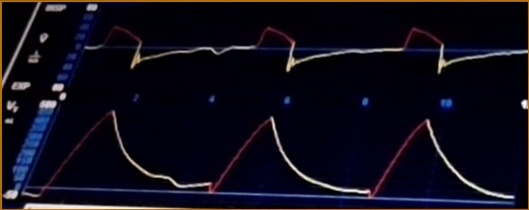Ineffective_effort Flow: (84, 16, 527, 80)
Ineffective_effort Volume: (27, 108, 514, 206)
